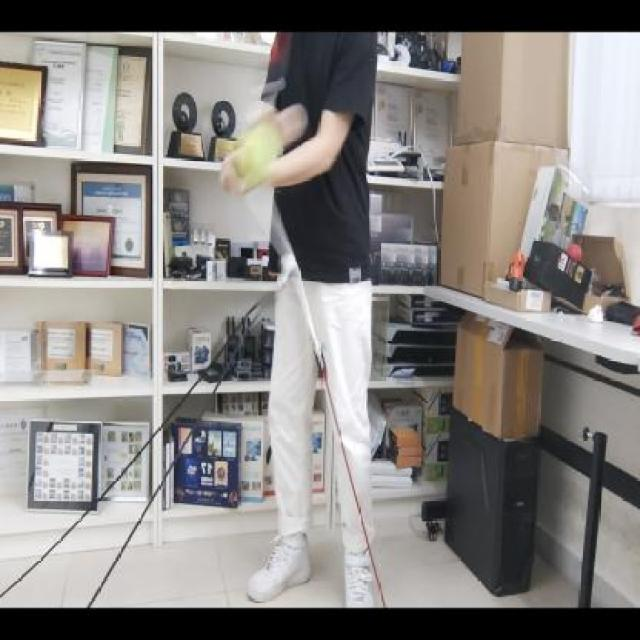baseball: (241, 120, 288, 186)
